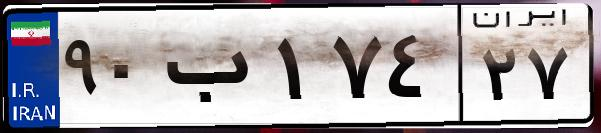0: (110, 28, 158, 98)
1: (270, 28, 330, 110)
2: (475, 38, 525, 113)
4: (385, 28, 445, 110)
7: (330, 28, 385, 110), (525, 38, 570, 115)
9: (57, 26, 110, 100)
ب: (158, 20, 270, 120)
